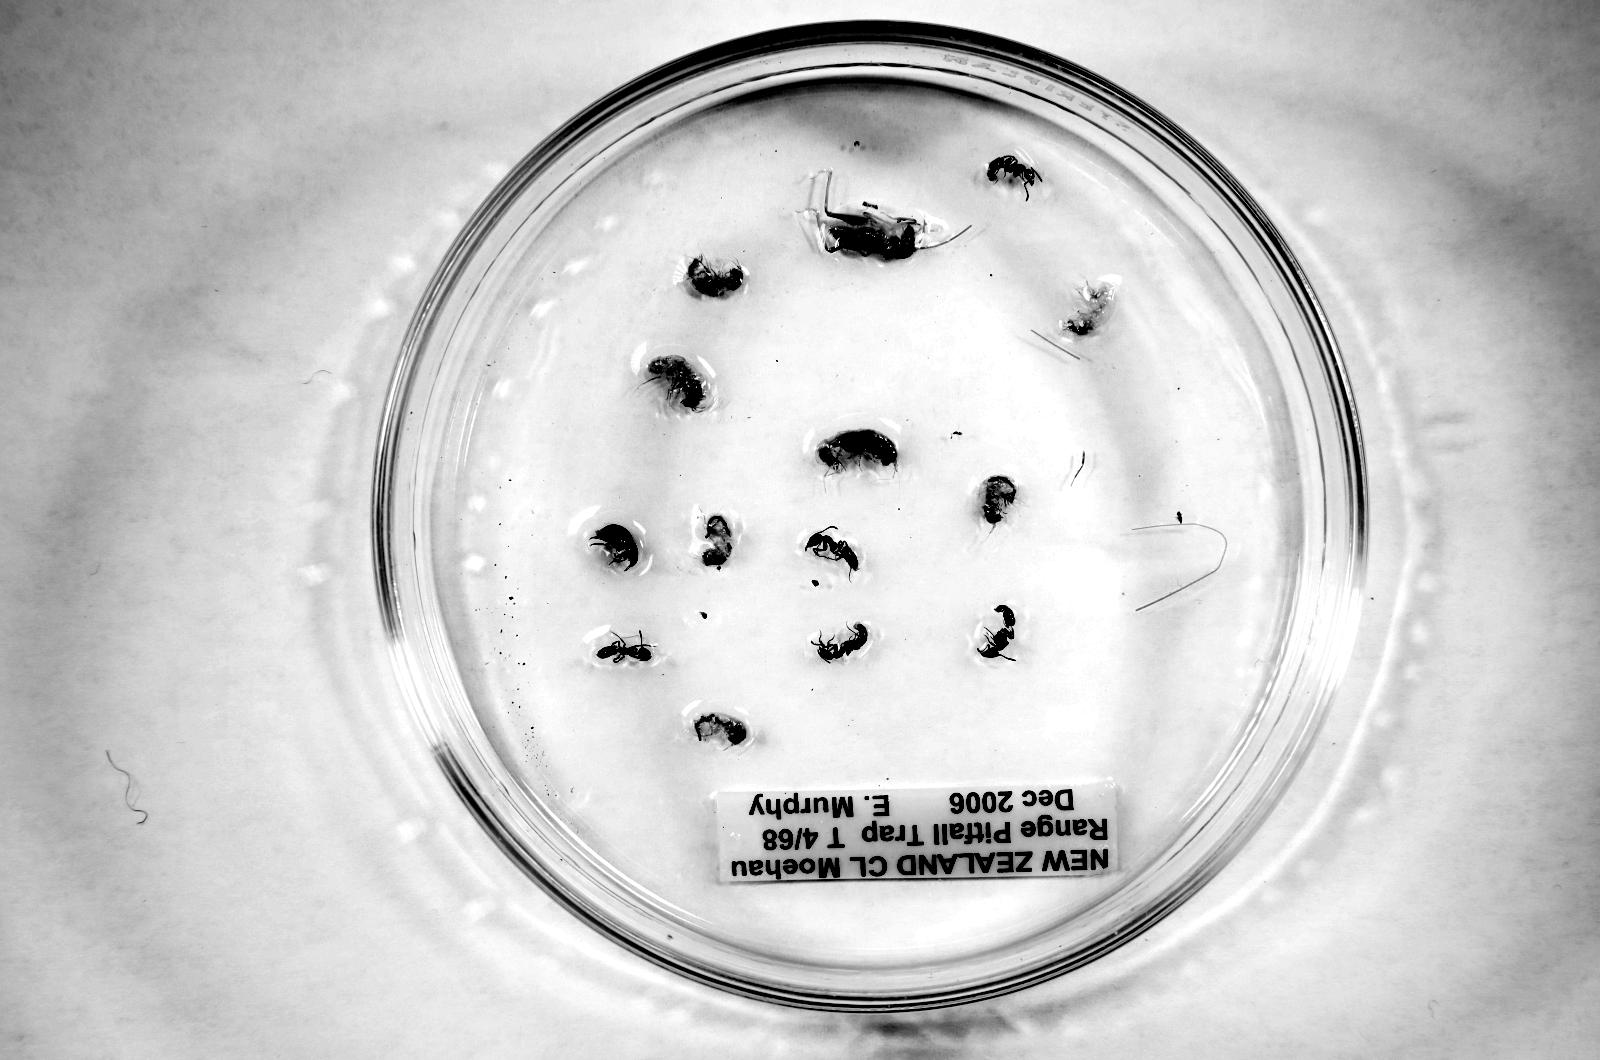amphipoda: (817, 428, 896, 473), (647, 355, 710, 411), (1061, 279, 1115, 336), (686, 254, 744, 296), (978, 476, 1017, 523), (694, 712, 747, 746), (701, 515, 732, 567)
coleoptera: (589, 524, 639, 571)
formicidae: (987, 155, 1042, 201), (805, 528, 859, 570), (811, 622, 869, 661), (976, 605, 1016, 660), (596, 635, 653, 664)
orthoptera: (820, 195, 927, 259)
